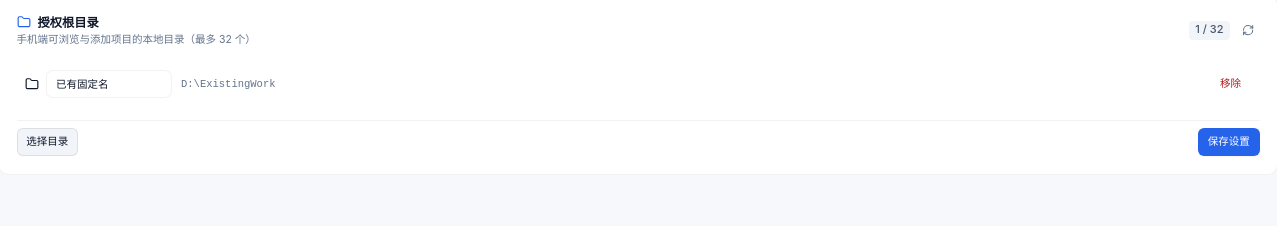
it: AuthorizedRootsSettings Component › defaults display name to drive name when picking a root drive
Click the button "选择目录" at (47, 142), box [16,128,78,156]
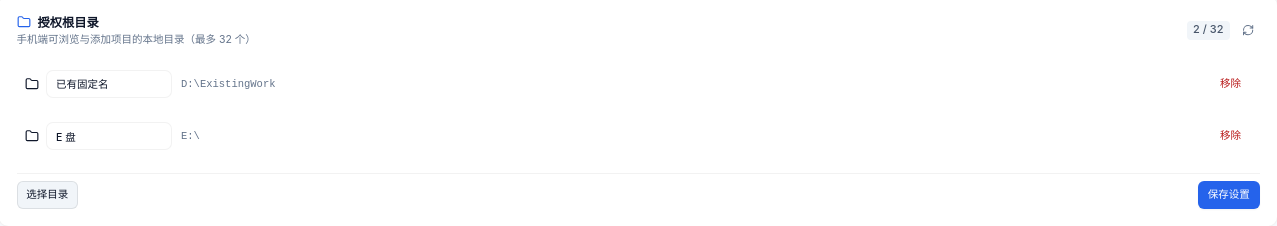
Expected: the number of fields named "根目录显示名称" is 2, [46,70,172,98]; [46,122,172,150]
Expected: the field named "根目录显示名称" next to "E:\\" holds "E 盘", [46,122,172,150]
Expected: the text "E:\\" is shown, [181,130,200,142]
